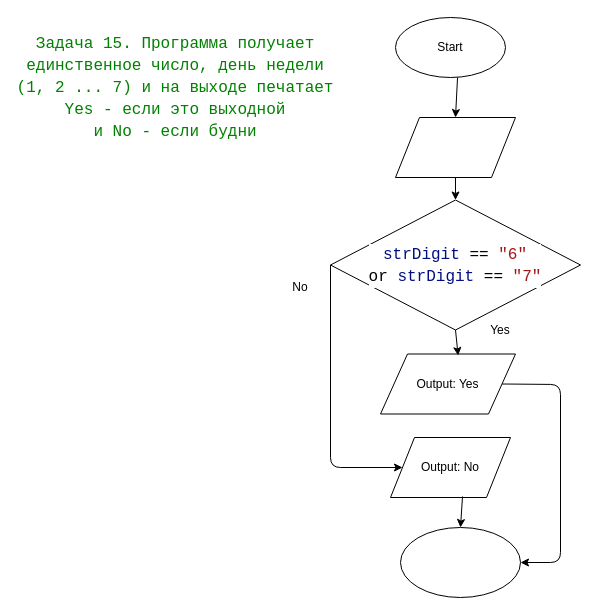
This 598x615 diagram has some shape labels left out. The centre of each missing label's shape, as x and y in pixels:
"End" goes at (x=460, y=562).
"Input: strDigit" goes at (x=455, y=147).
